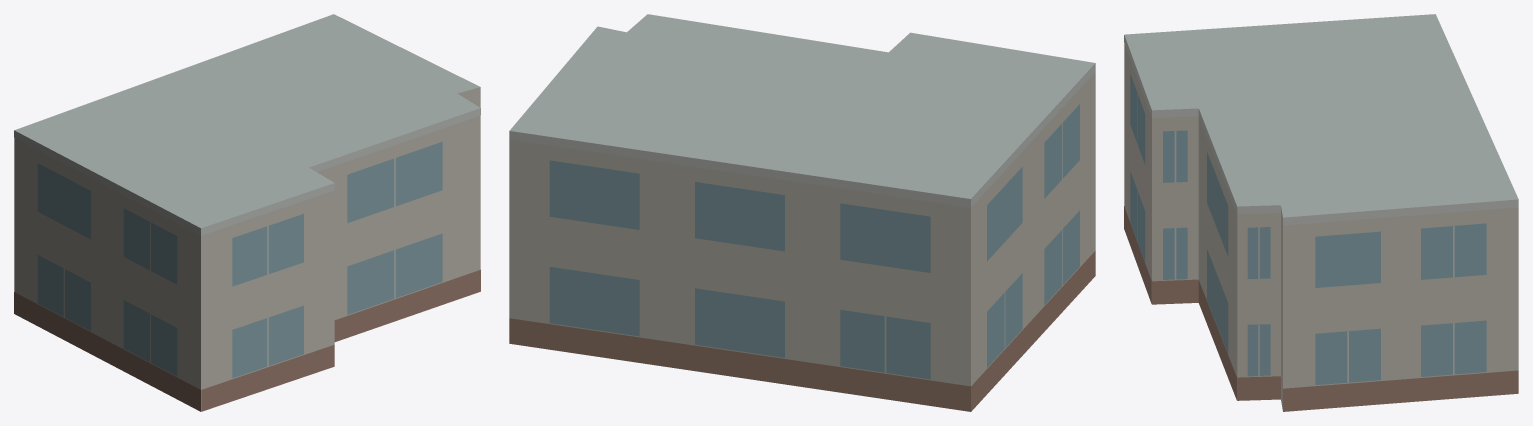
File: survey-upis-33021713.glb
The picture shows the model from 3 angles, left to right: view 1: azimuth 30°, elevation 25°; view 2: azimuth 150°, elevation 25°; view 3: azimuth 270°, elevation 25°; orthographic projection. The views are drawn at different scales.
Parts seen in each view (by area): view 1: survey-upis-33021713.tmp; view 2: survey-upis-33021713.tmp; view 3: survey-upis-33021713.tmp.
Boxes of the visible parts, left/top/right/bottom form: survey-upis-33021713.tmp: left=14, top=14, right=480, bottom=411; survey-upis-33021713.tmp: left=509, top=14, right=1095, bottom=411; survey-upis-33021713.tmp: left=1124, top=14, right=1518, bottom=411.
Size of the model in its own units: 13.72 by 6.1 by 11.24.
